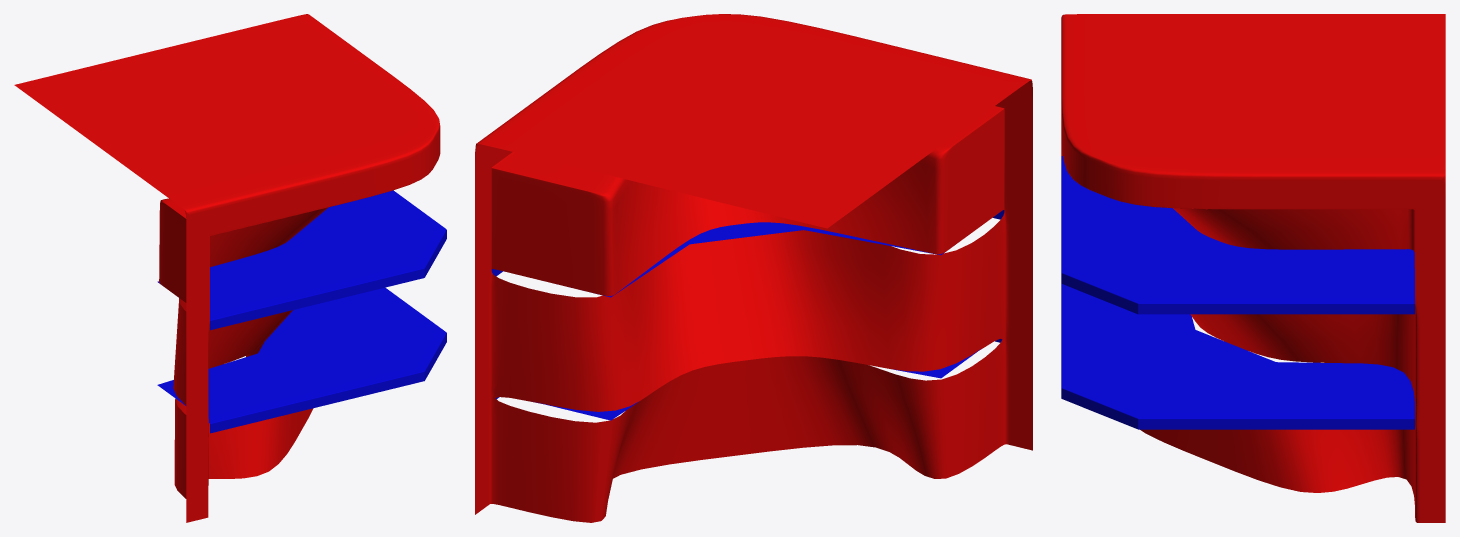
File: Küchentheke_2_ecke_high.fbx
3 views of the same model, side by side, from view 1: azimuth 30°, elevation 25°; view 2: azimuth 150°, elevation 25°; view 3: azimuth 270°, elevation 25° (orthographic). The views are drawn at different scales.
Parts seen in each view (by area): view 1: Küchentheke_2_ecke_high; view 2: Küchentheke_2_ecke_high; view 3: Küchentheke_2_ecke_high.
Part boxes in pixels (x1,y1,x2,y2): Küchentheke_2_ecke_high: (14,14,446,522); Küchentheke_2_ecke_high: (475,14,1032,522); Küchentheke_2_ecke_high: (1061,14,1445,522).
Bounding box in the file's own units: 0.99 × 1 × 1.
